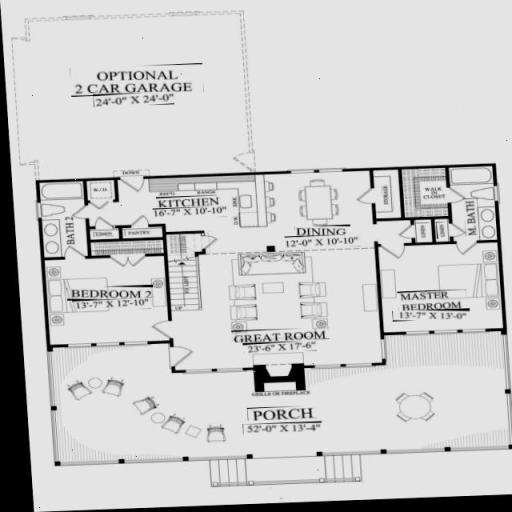bathroom: (39, 183, 96, 255), (452, 168, 500, 248)
bedroom: (48, 254, 164, 339), (388, 247, 500, 332)
garage: (22, 14, 254, 176)
hall: (176, 246, 386, 374)
kitchen: (100, 177, 378, 247)
porch: (67, 381, 509, 456)
